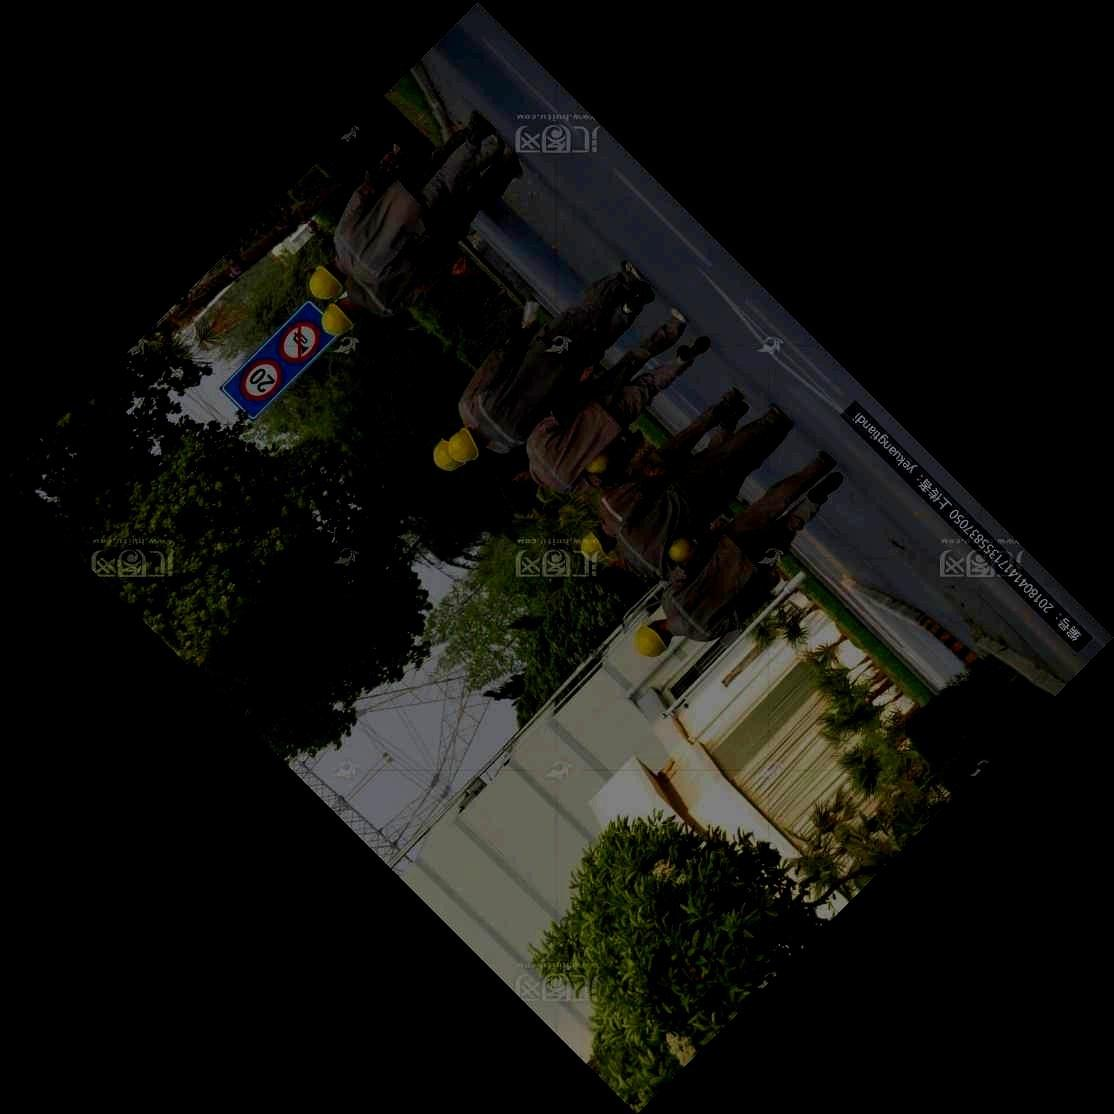helmet: (320, 295, 365, 337), (630, 617, 674, 657), (447, 424, 490, 463), (309, 257, 348, 300), (579, 525, 621, 564), (433, 433, 466, 472)
